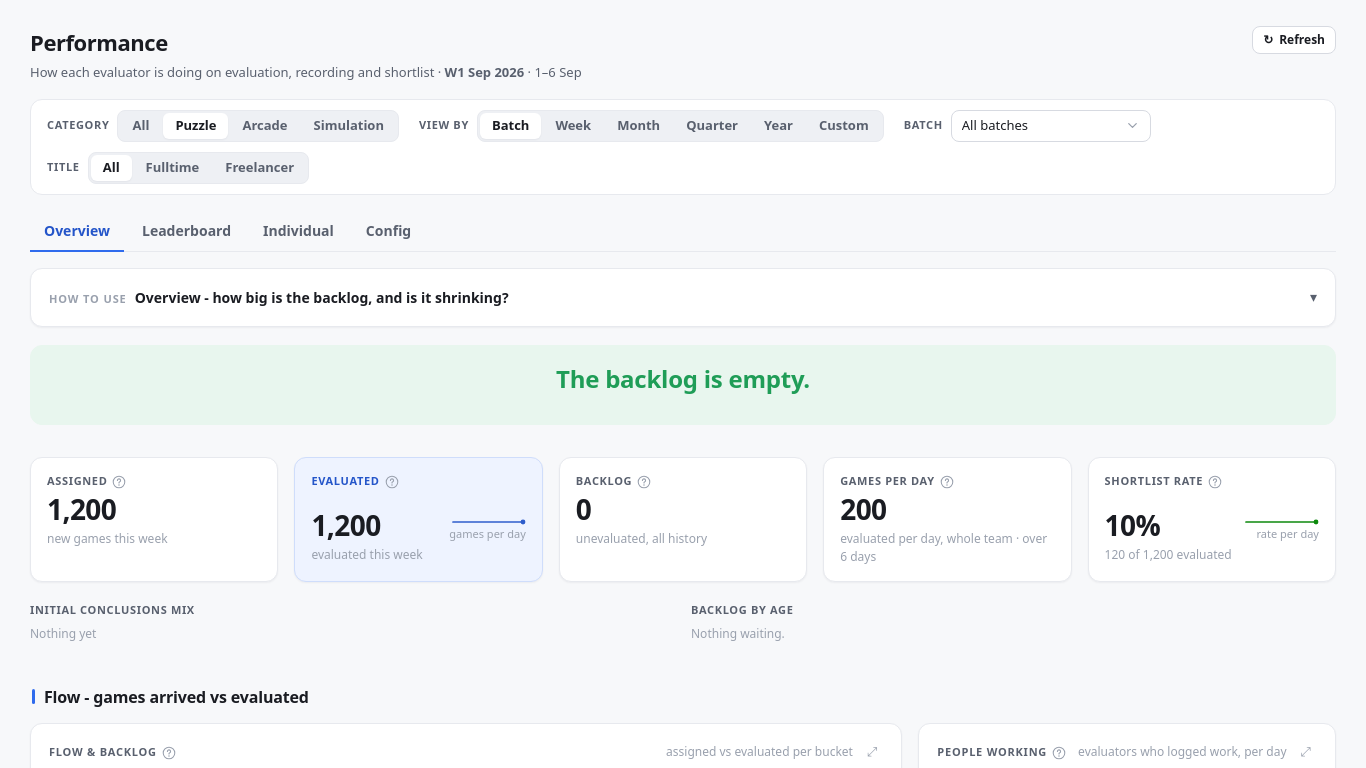
Test: Individual tab › prints no moves when nothing crosses a threshold
Click the button "Individual" at [298, 231], box [249,210,348,252]
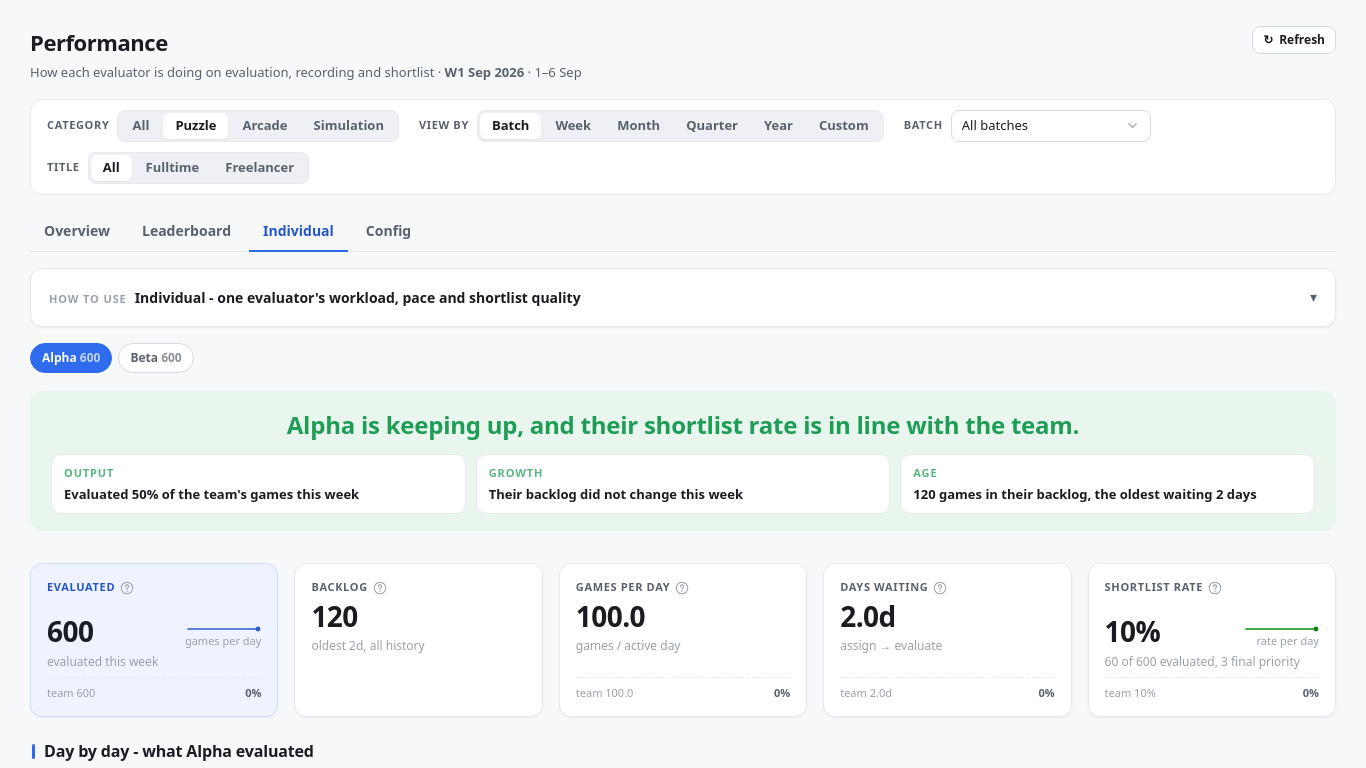
Now the text with class "rp-headline" reads "Alpha is keeping up, and their shortlist rate is in line with the team.", box [287,408,1079,440]
